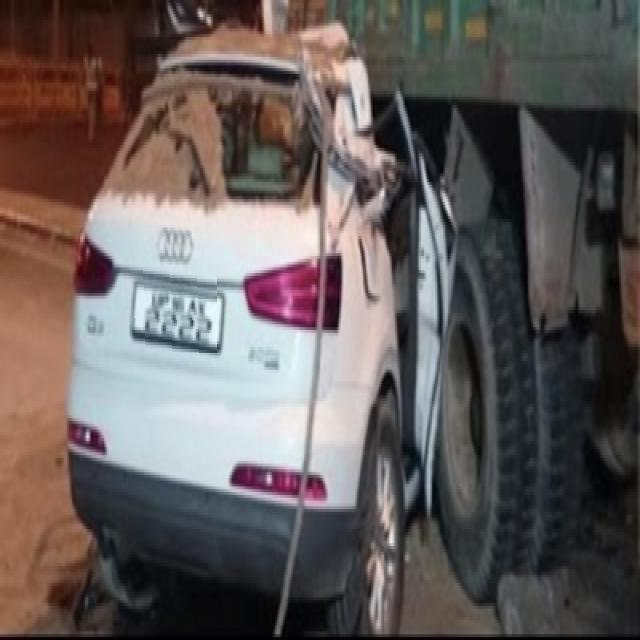licence: (130, 267, 218, 353)
